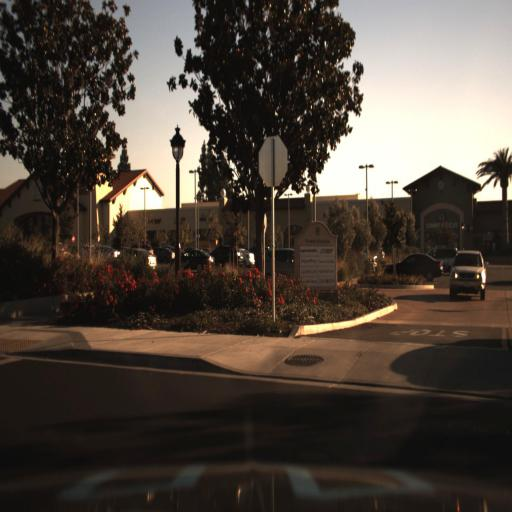car: (242, 239, 314, 280), (448, 248, 486, 302), (382, 251, 444, 281), (162, 244, 218, 272), (208, 242, 250, 278), (232, 239, 256, 270)
